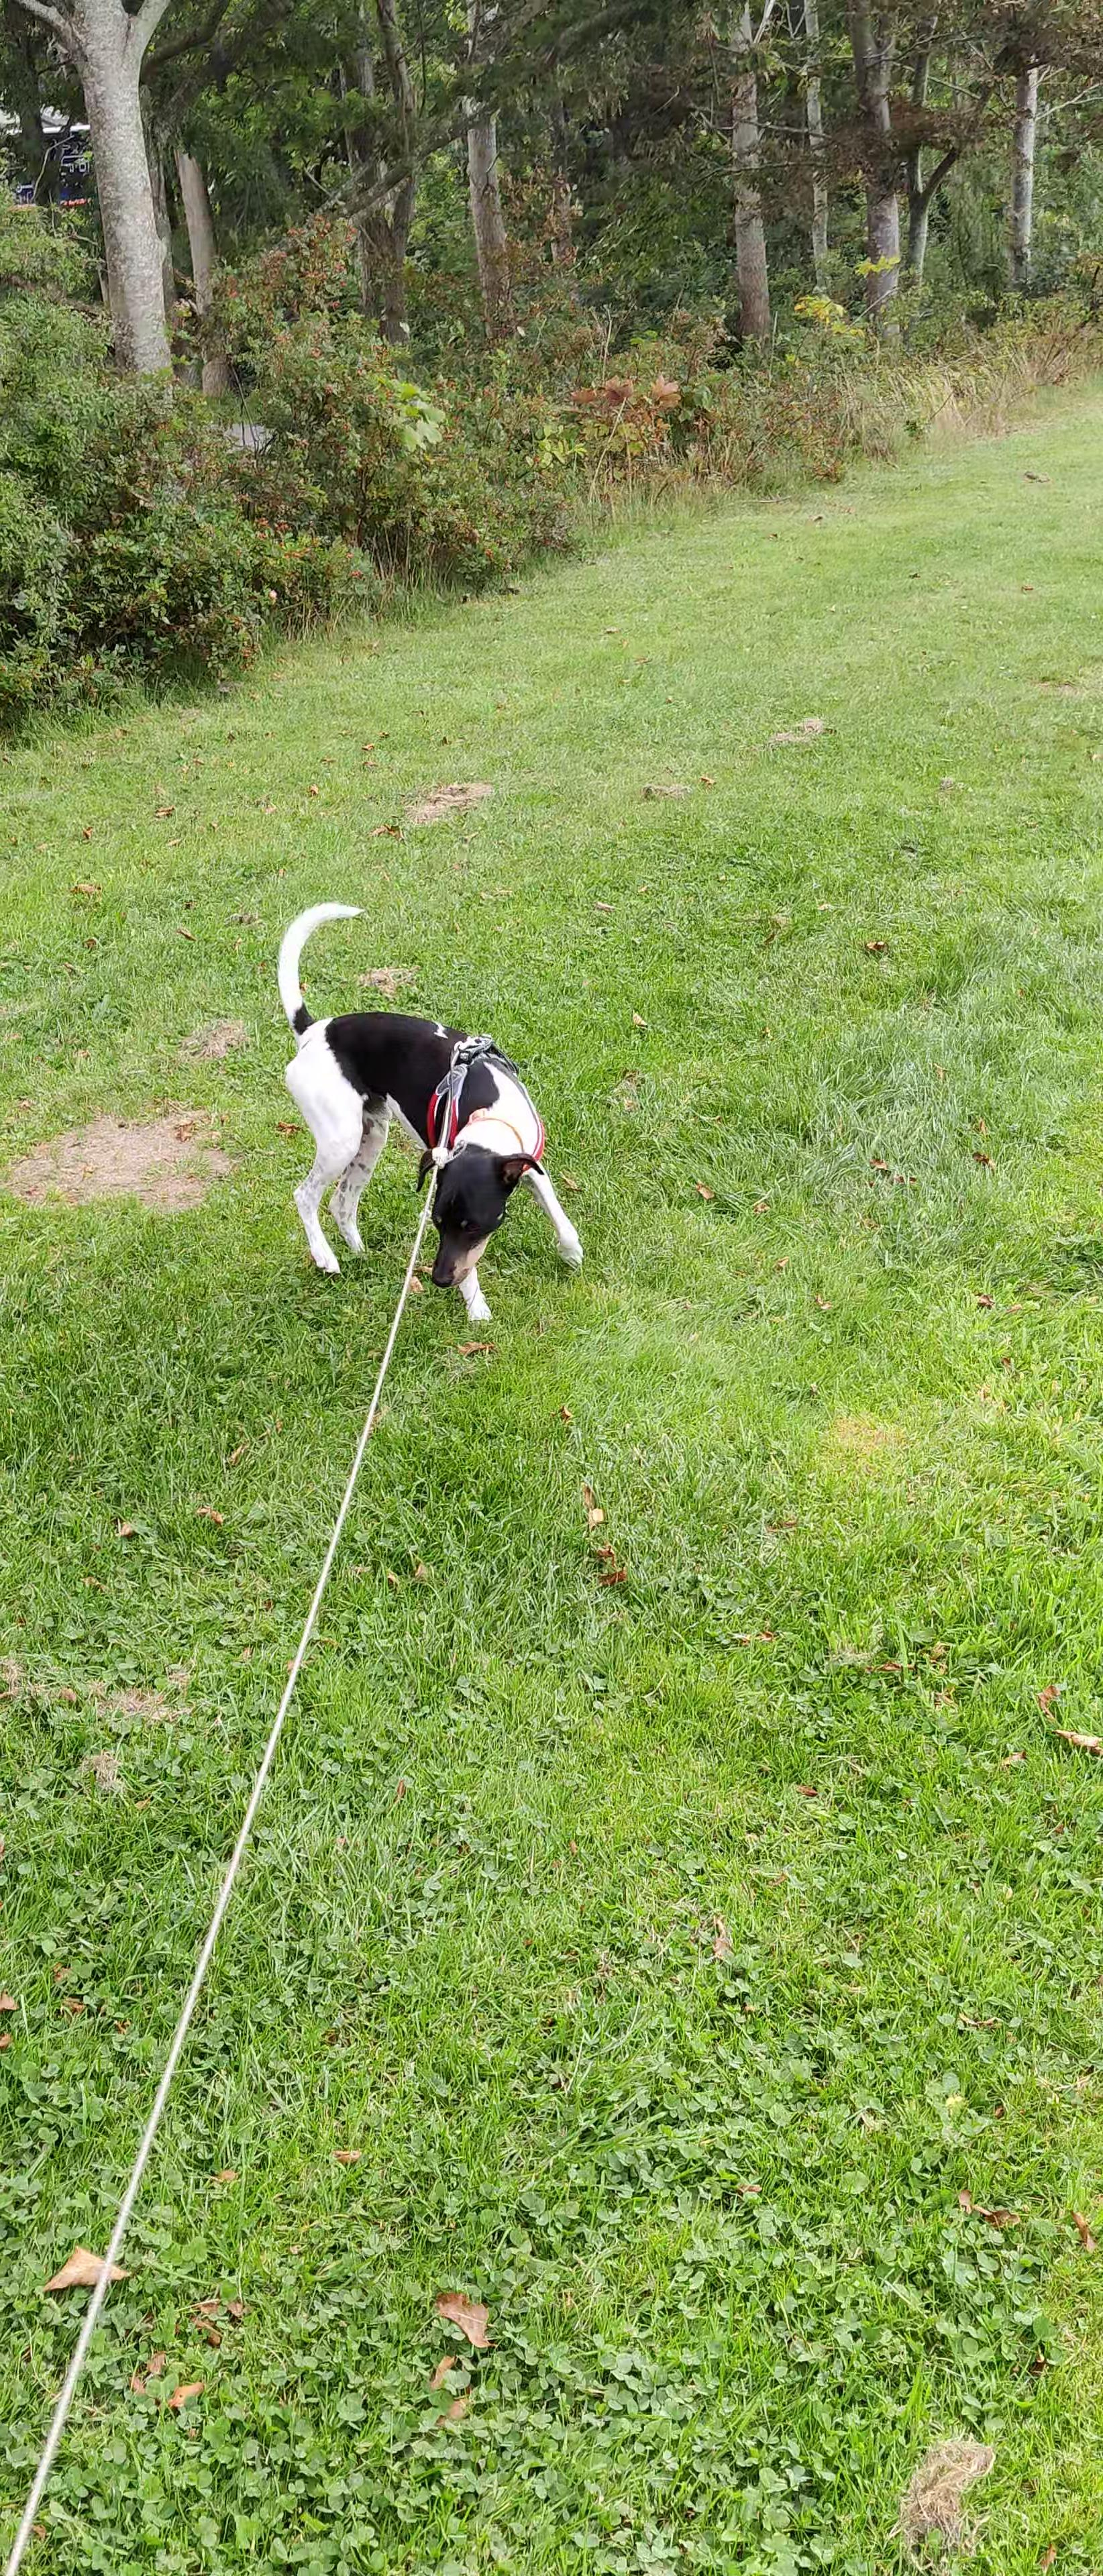Dog: (270, 899, 587, 1324)
